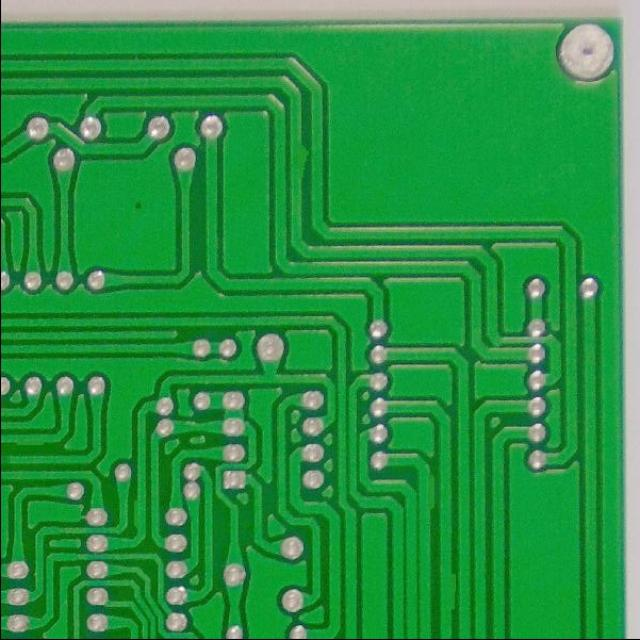spur: (418, 469, 438, 513), (441, 570, 460, 612), (292, 138, 310, 181), (6, 434, 47, 452)
